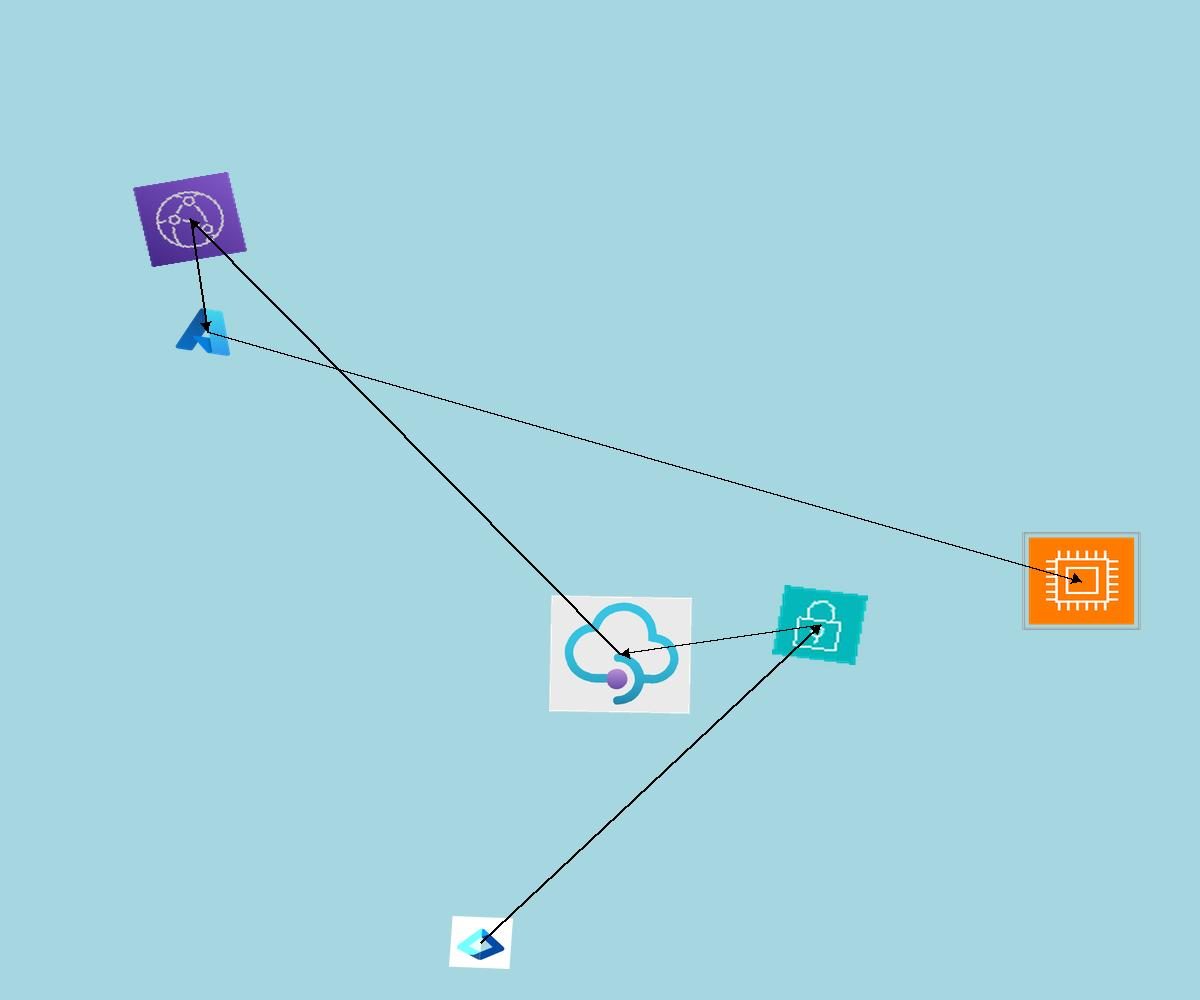AWS-Category_Compute: (1021, 531, 1142, 631)
AWS-CloudFront: (132, 171, 248, 268)
AWS-Private-subnet: (772, 585, 868, 665)
Azure_api_gateway: (549, 595, 692, 714)
Azure_microsoft_entra: (449, 916, 513, 969)
Azure_services: (172, 302, 242, 360)
